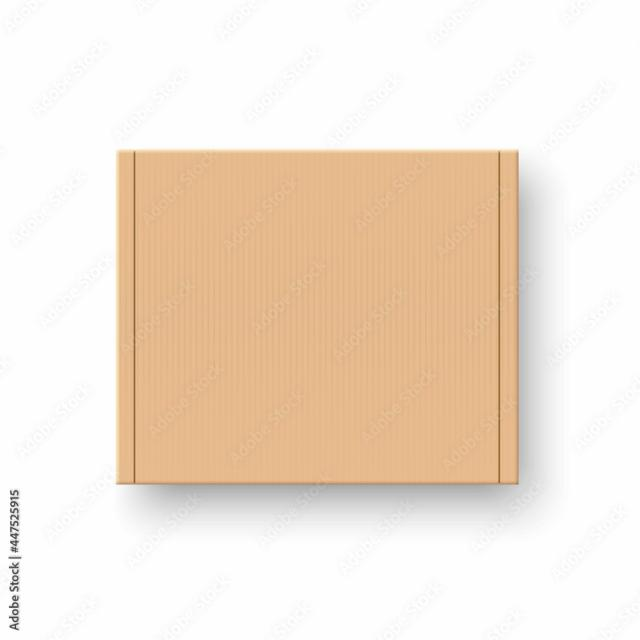box: (116, 148, 521, 488)
